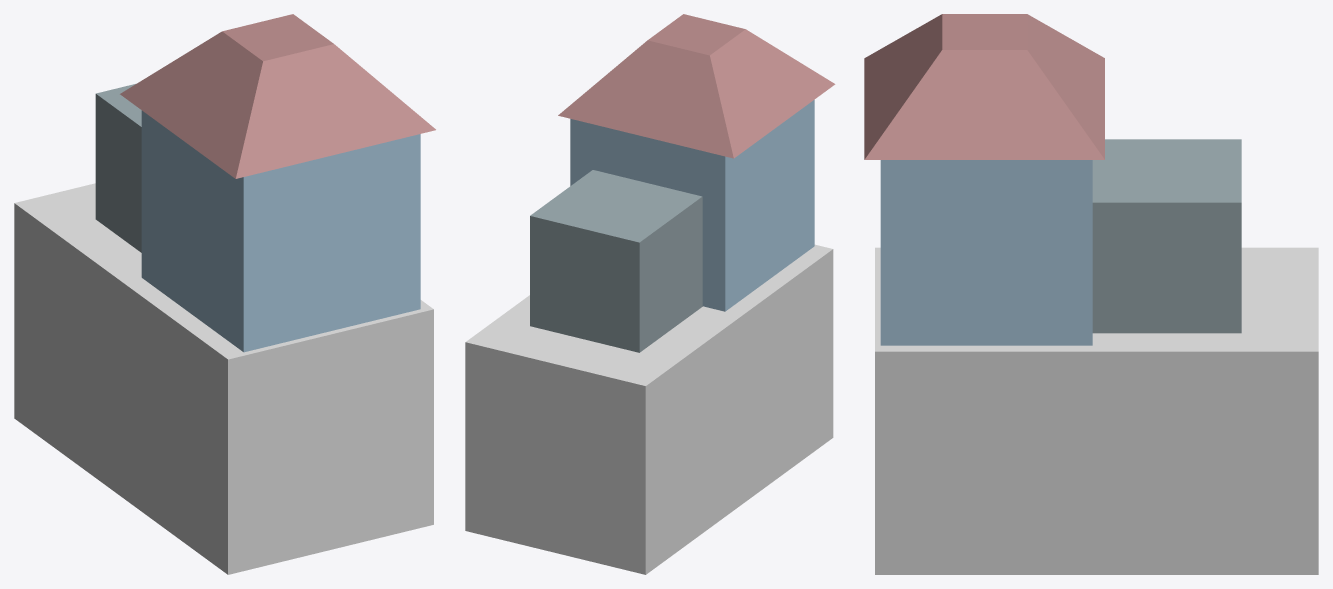
Rendered from hus.fbx.
3 renders of one model, left to right at view 1: azimuth 30°, elevation 25°; view 2: azimuth 150°, elevation 25°; view 3: azimuth 270°, elevation 25°, orthographic. The views are drawn at different scales.
Visible parts, largest first — view 1: pCube5; view 2: pCube5; view 3: pCube5.
Part boxes in pixels (x1,y1,x2,y2): pCube5: [14, 14, 435, 574]; pCube5: [465, 14, 835, 574]; pCube5: [864, 14, 1318, 574].
Size of the model in its own units: 0.1448 by 0.3182 by 0.2668.
